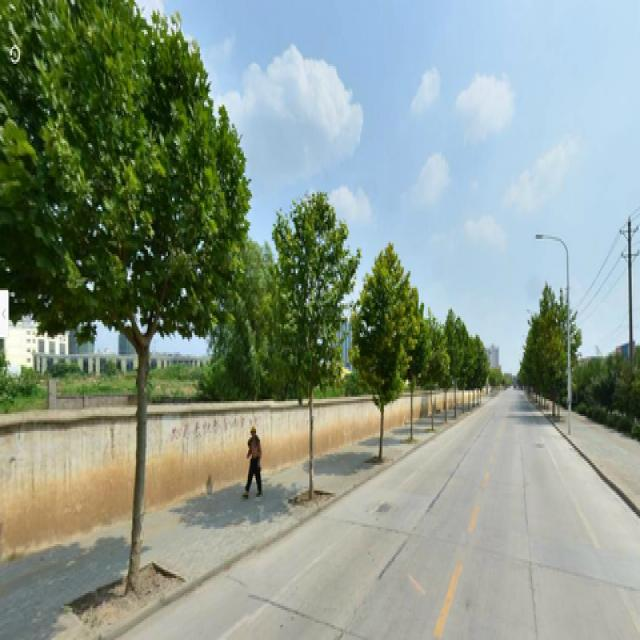meta: (45, 17, 191, 578), (291, 209, 337, 497), (371, 258, 405, 465)
